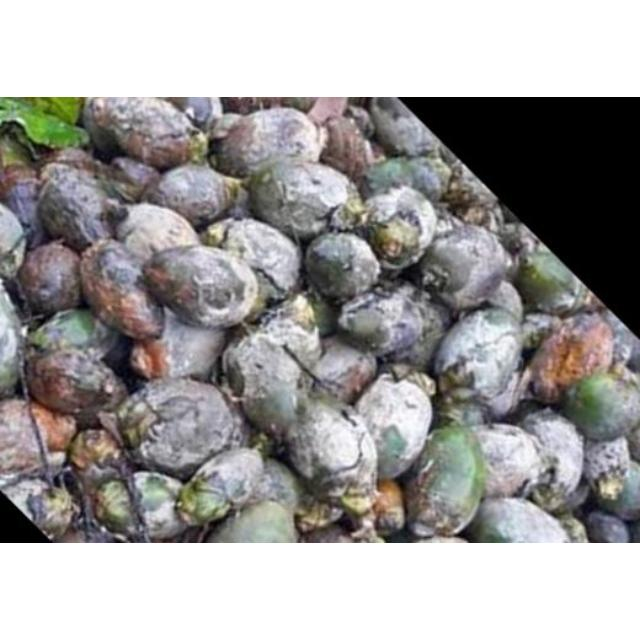damaged: (220, 310, 328, 434), (118, 376, 245, 478), (280, 398, 380, 508), (138, 247, 254, 336), (402, 425, 490, 537), (430, 306, 526, 406), (78, 239, 170, 341), (243, 158, 354, 242), (85, 97, 205, 171), (352, 374, 434, 481), (522, 310, 614, 404), (416, 224, 514, 312), (208, 218, 304, 306), (210, 106, 322, 178), (24, 346, 130, 422), (35, 166, 125, 254), (175, 445, 269, 529), (133, 309, 231, 385), (334, 281, 431, 357), (514, 410, 588, 508), (356, 185, 440, 269), (149, 163, 245, 229), (467, 423, 543, 503), (560, 370, 640, 442), (112, 202, 202, 264), (28, 308, 124, 366), (510, 246, 586, 318), (304, 231, 382, 301), (15, 241, 85, 317), (467, 496, 573, 542), (308, 341, 378, 404), (582, 436, 638, 514), (366, 98, 438, 158), (318, 112, 374, 182), (362, 155, 446, 201), (106, 156, 162, 202)
